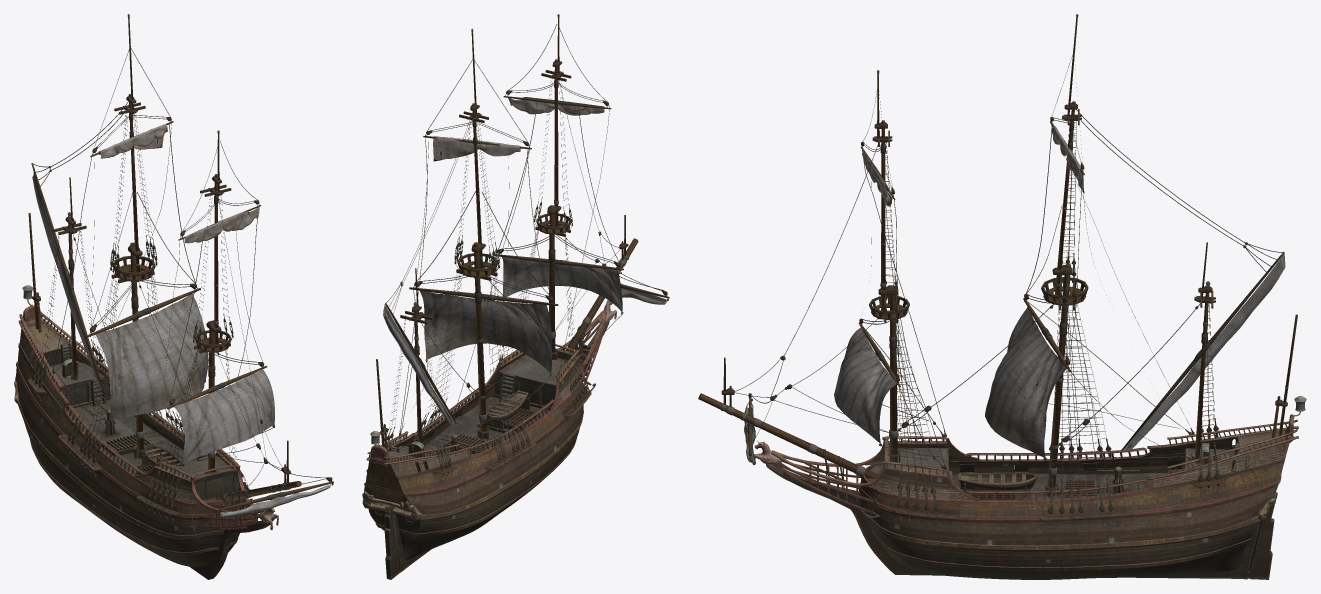
The model's file is pirate_ship.glb.
The picture shows the model from 3 angles, left to right: view 1: azimuth 30°, elevation 25°; view 2: azimuth 150°, elevation 25°; view 3: azimuth 270°, elevation 25°; orthographic projection. The views are drawn at different scales.
Parts seen in each view (by area): view 1: dutch_ship_medium_hull_dutch_ship_medium_hull_0, dutch_ship_medium_rigging_dutch_ship_medium_rigging_0, dutch_ship_medium_sails_dutch_ship_medium_sails_0; view 2: dutch_ship_medium_hull_dutch_ship_medium_hull_0, dutch_ship_medium_rigging_dutch_ship_medium_rigging_0, dutch_ship_medium_sails_dutch_ship_medium_sails_0; view 3: dutch_ship_medium_hull_dutch_ship_medium_hull_0, dutch_ship_medium_rigging_dutch_ship_medium_rigging_0, dutch_ship_medium_sails_dutch_ship_medium_sails_0.
Part boxes in pixels (x1=…): dutch_ship_medium_hull_dutch_ship_medium_hull_0: x1=14, y1=285, x2=278, y2=579; dutch_ship_medium_rigging_dutch_ship_medium_rigging_0: x1=28, y1=14, x2=333, y2=531; dutch_ship_medium_sails_dutch_ship_medium_sails_0: x1=95, y1=124, x2=274, y2=462; dutch_ship_medium_hull_dutch_ship_medium_hull_0: x1=362, y1=300, x2=616, y2=579; dutch_ship_medium_rigging_dutch_ship_medium_rigging_0: x1=376, y1=14, x2=669, y2=482; dutch_ship_medium_sails_dutch_ship_medium_sails_0: x1=420, y1=97, x2=622, y2=372; dutch_ship_medium_hull_dutch_ship_medium_hull_0: x1=752, y1=396, x2=1306, y2=579; dutch_ship_medium_rigging_dutch_ship_medium_rigging_0: x1=698, y1=14, x2=1297, y2=529; dutch_ship_medium_sails_dutch_ship_medium_sails_0: x1=834, y1=126, x2=1084, y2=457.
Size of the model in its own units: 6.81 by 24.66 by 24.07.
3 materials, 3 textured.
